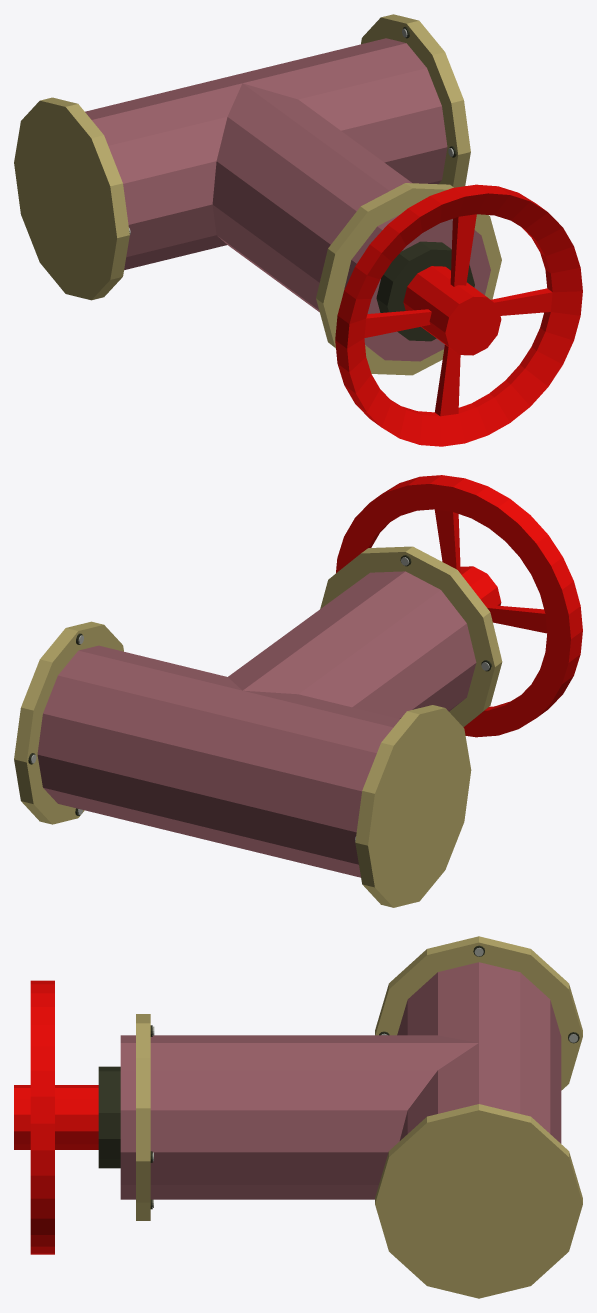
File: Pipe_With_Valve.fbx
3 views of the same model, one above another, from view 1: azimuth 30°, elevation 25°; view 2: azimuth 150°, elevation 25°; view 3: azimuth 270°, elevation 25° (orthographic).
Parts seen in each view (by area): view 1: Pipe_With_Valve, Cylinder.086, Cylinder.010, Cylinder.080, Cylinder.025; view 2: Pipe_With_Valve, Cylinder.086, Cylinder.010, Cylinder.080, Cylinder.025; view 3: Pipe_With_Valve, Cylinder.025, Cylinder.086, Cylinder.010, Cylinder.080.
Boxes of the visible parts, x1,y1,x2,y2 form: Pipe_With_Valve: [85, 38, 490, 361]; Cylinder.086: [335, 184, 582, 446]; Cylinder.010: [14, 97, 129, 300]; Cylinder.080: [316, 183, 501, 375]; Cylinder.025: [361, 14, 470, 187]; Pipe_With_Valve: [37, 571, 476, 877]; Cylinder.086: [336, 475, 582, 737]; Cylinder.010: [355, 705, 471, 907]; Cylinder.080: [320, 546, 502, 726]; Cylinder.025: [14, 621, 123, 824]; Pipe_With_Valve: [98, 962, 561, 1199]; Cylinder.025: [375, 1104, 582, 1298]; Cylinder.086: [14, 980, 98, 1254]; Cylinder.010: [375, 936, 582, 1090]; Cylinder.080: [136, 1014, 152, 1220].
Size of the model in its own units: 30 by 20 by 41.47.
